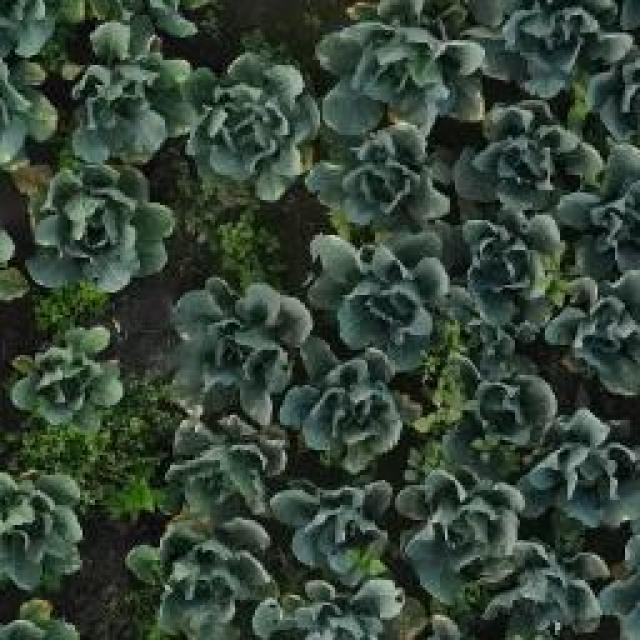cabbage: (306, 227, 461, 367), (24, 153, 172, 294), (185, 57, 318, 197), (130, 504, 273, 633), (319, 0, 456, 129), (308, 118, 454, 235), (72, 26, 191, 169), (395, 468, 529, 592), (0, 318, 124, 448), (463, 95, 595, 216), (176, 279, 309, 398), (276, 356, 404, 477), (473, 0, 618, 102), (528, 406, 640, 536), (442, 343, 558, 462), (484, 537, 614, 640), (266, 476, 396, 576), (546, 123, 640, 258), (451, 203, 563, 314), (546, 262, 640, 391), (0, 462, 88, 592), (250, 574, 414, 640), (193, 408, 280, 488)
